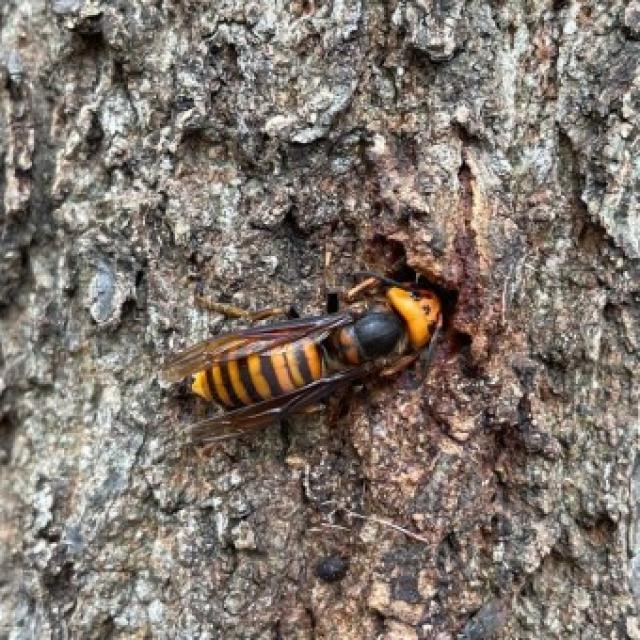Wasp: (163, 272, 444, 441)
